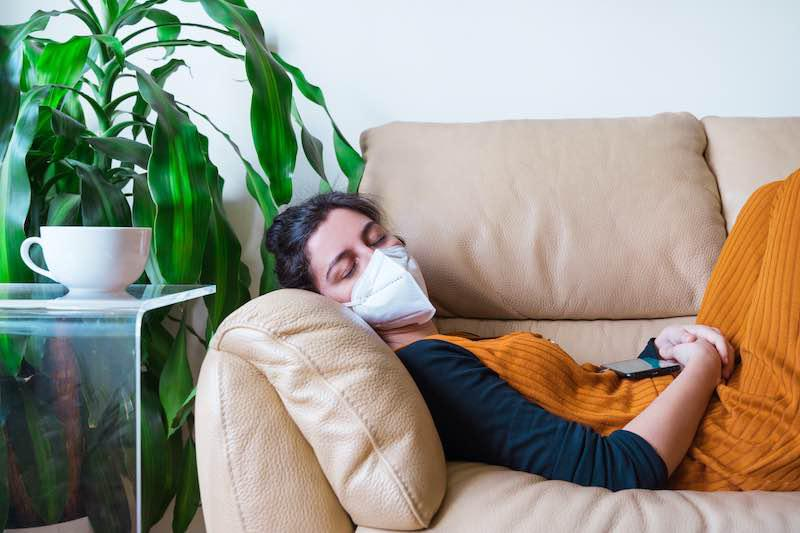OK: (313, 212, 439, 327)
